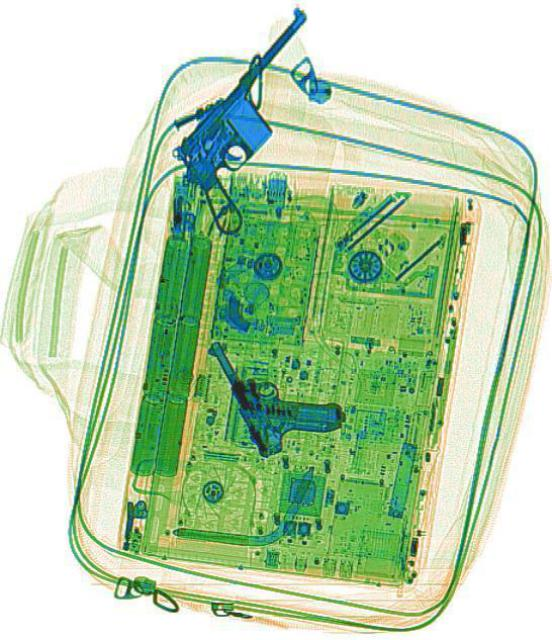Gun: (154, 2, 370, 238), (199, 298, 347, 470)
